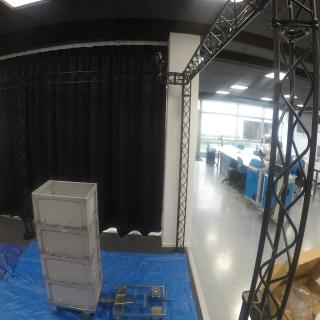Box4G: (33, 179, 101, 232), (35, 212, 104, 261), (44, 264, 106, 315), (40, 241, 104, 289)
